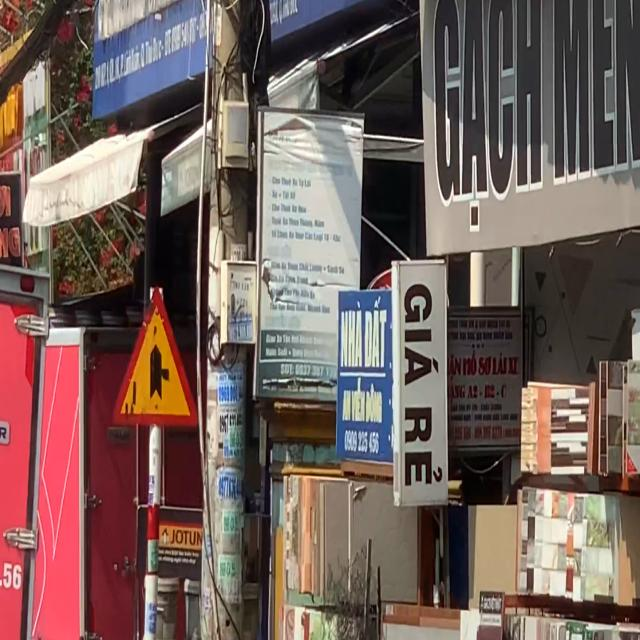Giao voi duong khong uu tien: (103, 275, 205, 438)
